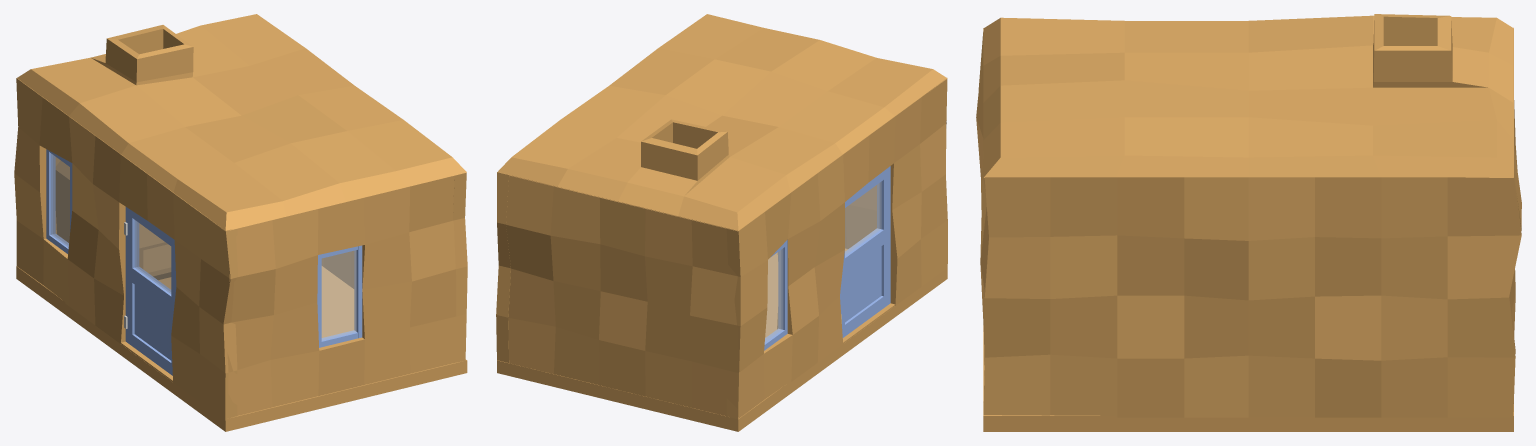
File: Пустынный дом с печью.fbx
3 renders of one model, left to right at view 1: azimuth 30°, elevation 25°; view 2: azimuth 150°, elevation 25°; view 3: azimuth 270°, elevation 25°, orthographic. The views are drawn at different scales.
Parts seen in each view (by area): view 1: Cube, Cube.007, Куб; view 2: Cube, Cube.007; view 3: Cube.
Boxes of the visible parts, <box> form: Cube: <box>14,14,467,431</box>; Cube.007: <box>125,207,176,375</box>; Куб: <box>55,161,171,279</box>; Cube: <box>496,14,947,431</box>; Cube.007: <box>840,166,890,337</box>; Cube: <box>976,14,1521,431</box>.
Size of the model in its own units: 415 by 387 by 617.
